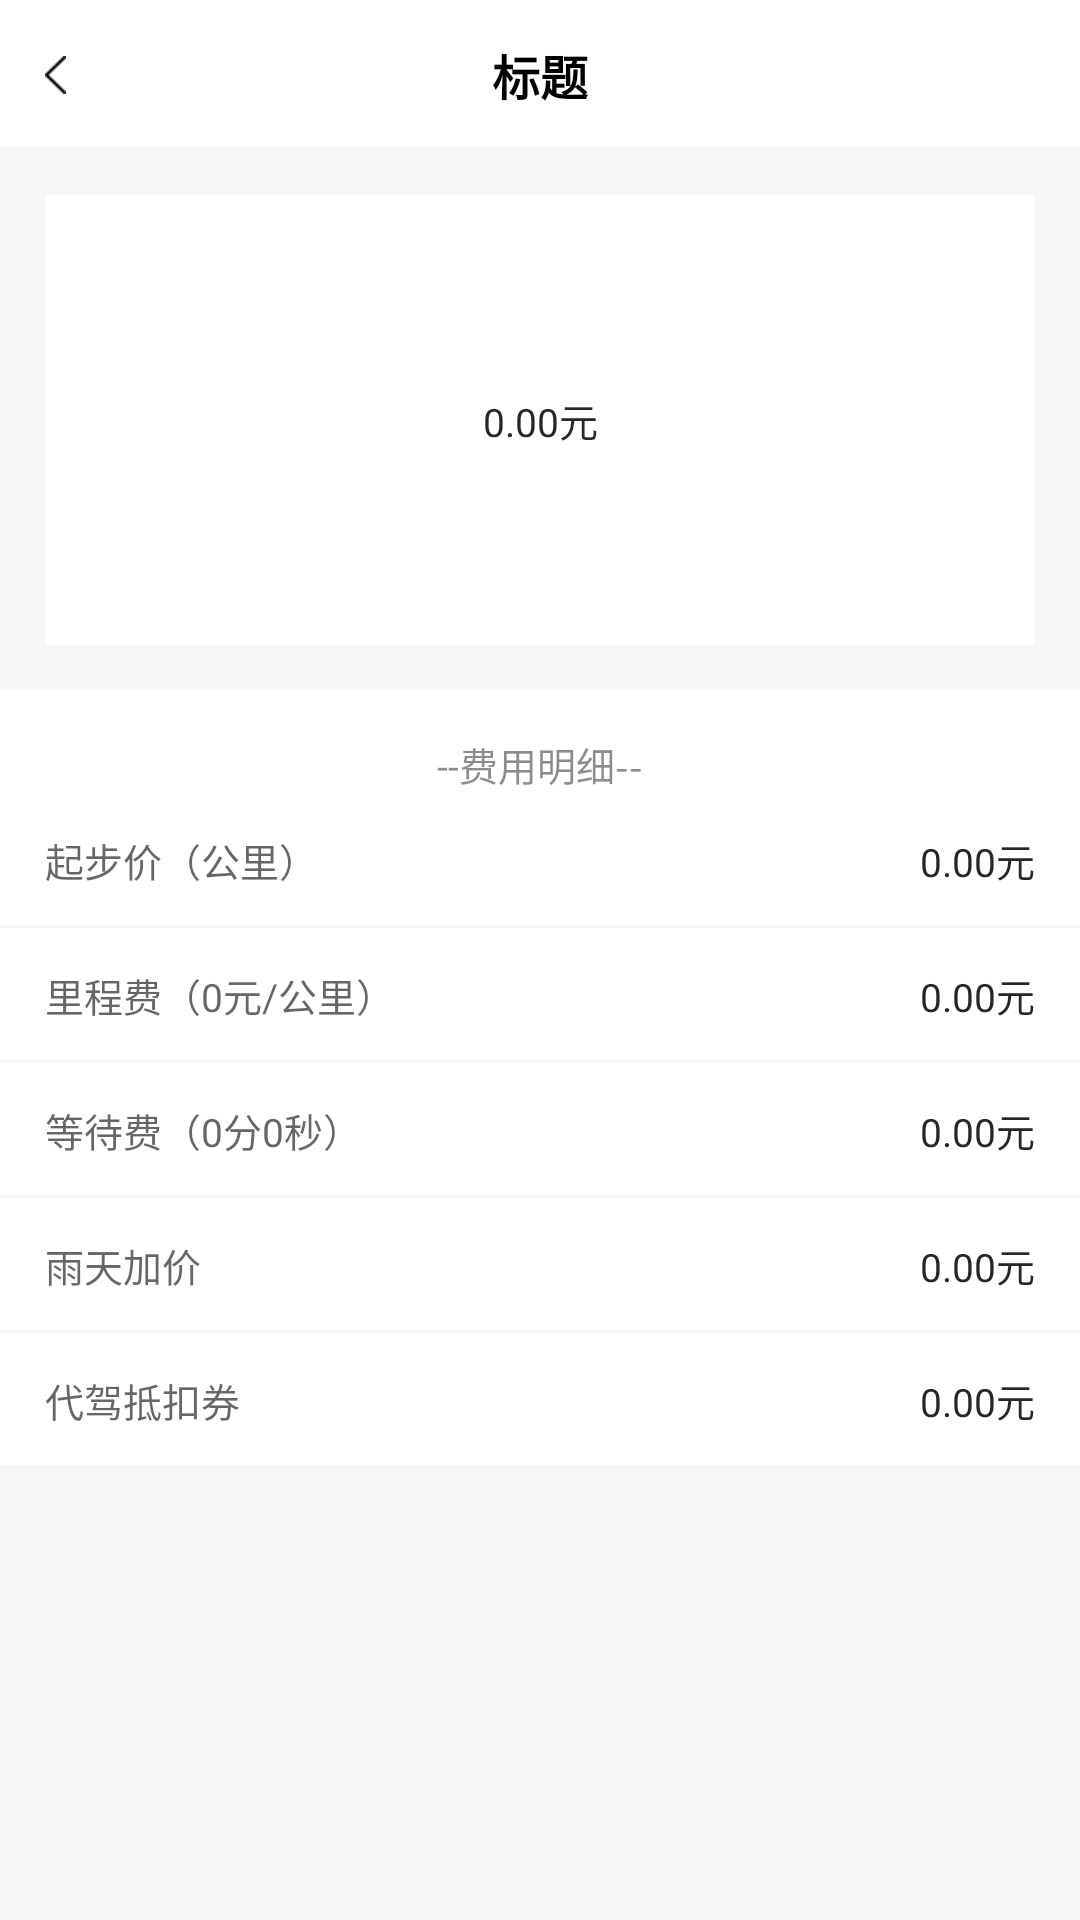

Icons on this 1080w x 1920h Android screen, each with the point to tap as point (x, y):
back: point (55, 75)
